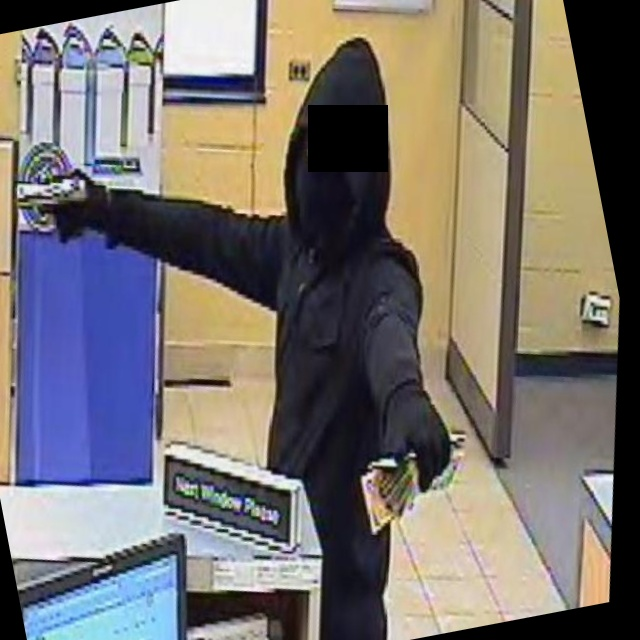gun: (0, 140, 131, 263)
